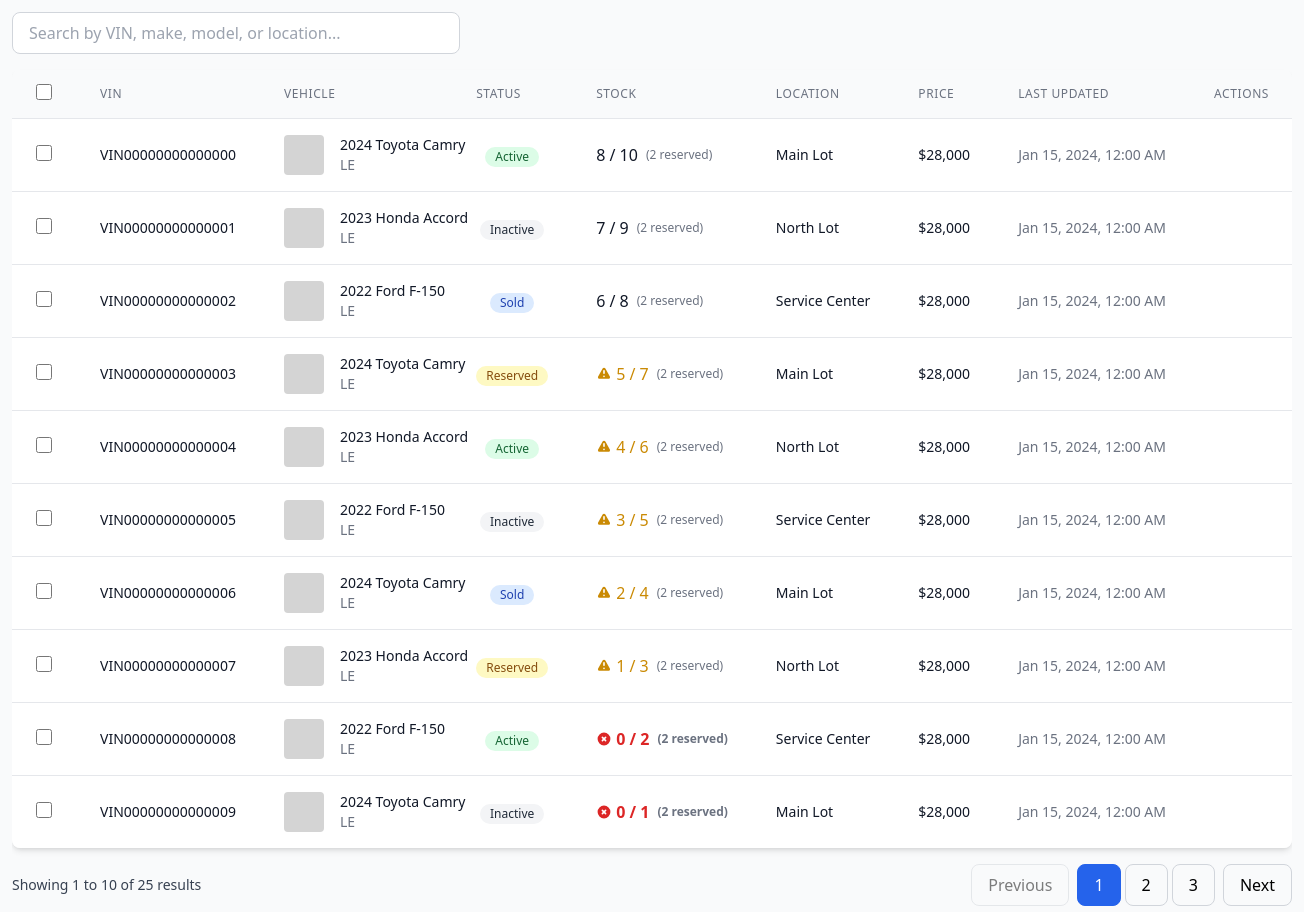
InventoryTable Component › Pagination › should navigate to previous page
Step 1. Click the button with aria-label "Next page" → x=1257, y=885, box [1223, 864, 1292, 906]
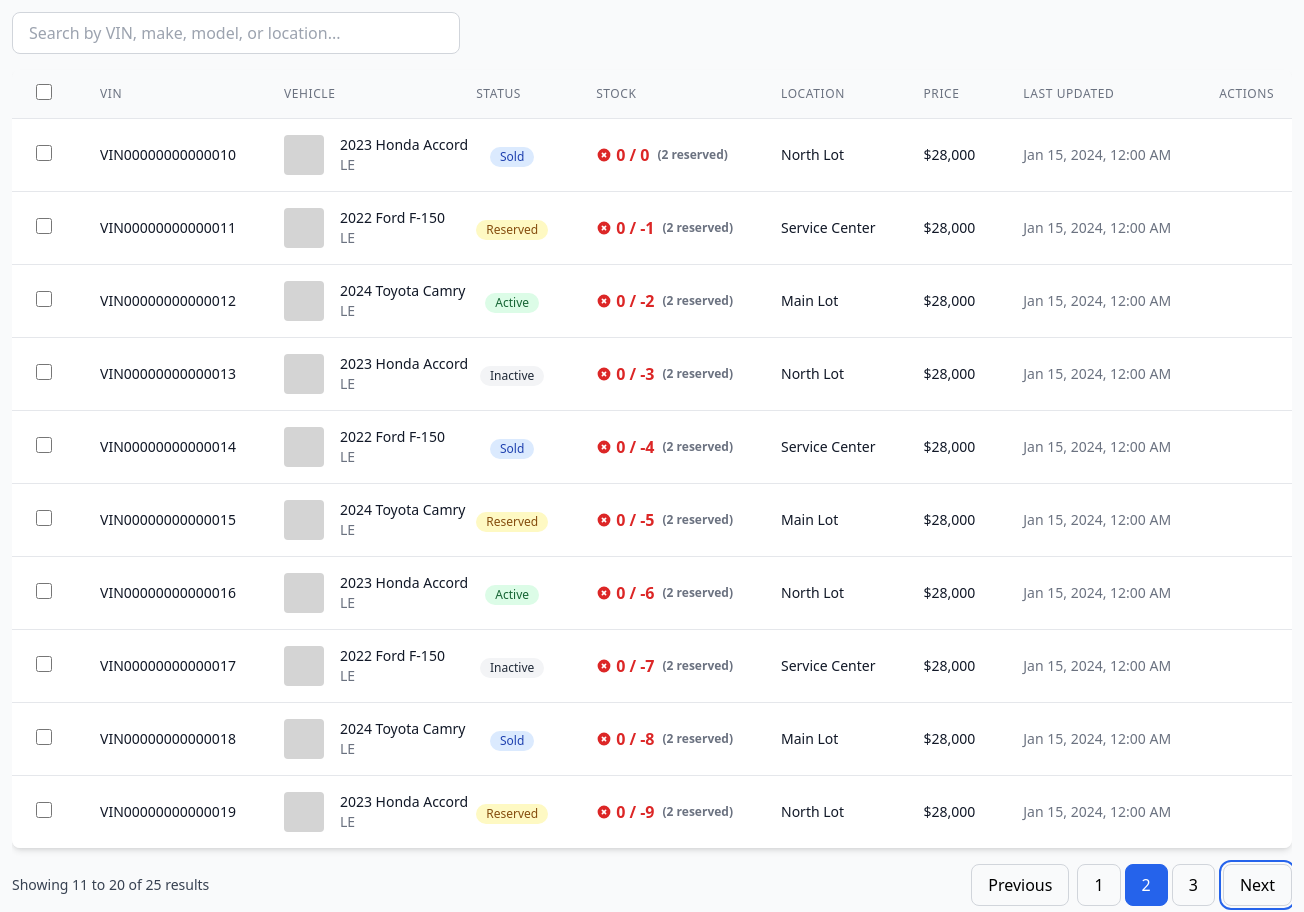
Step 2. Click the button with aria-label "Previous page" → x=1020, y=885, box [971, 864, 1070, 906]
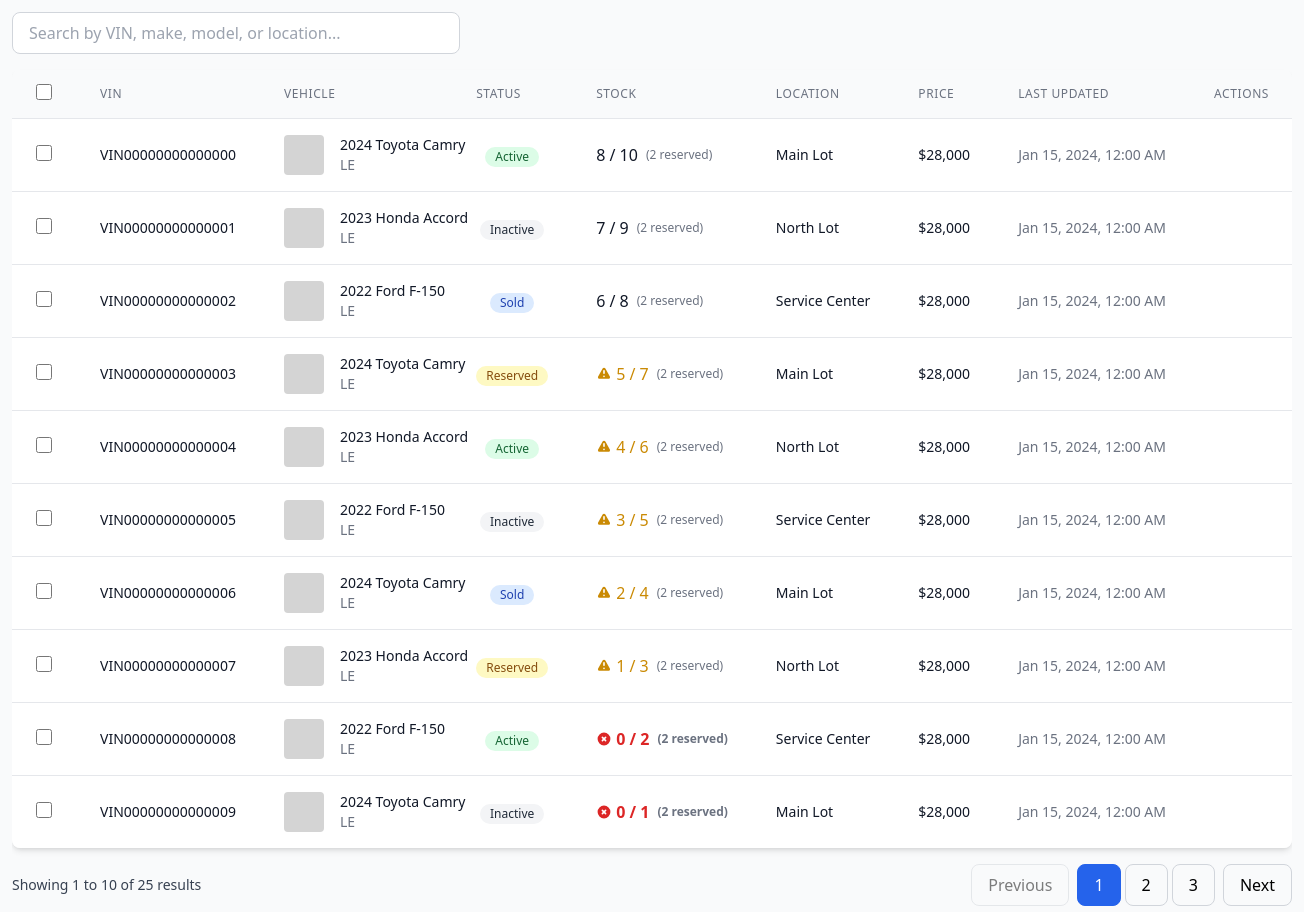
Check: the text "Showing 1 to 10 of 25 results" is shown, box [12, 875, 201, 895]
